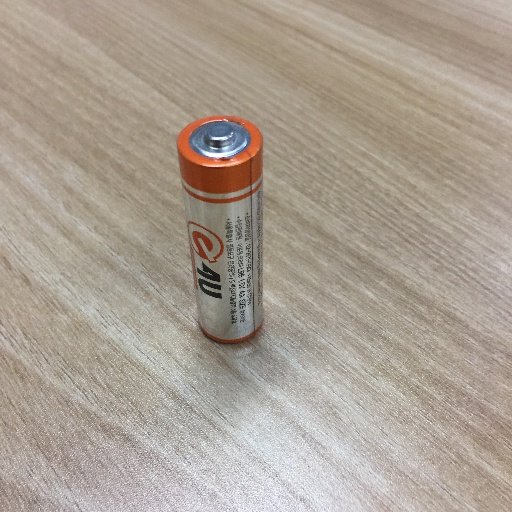Battery_0: (166, 101, 276, 361)
